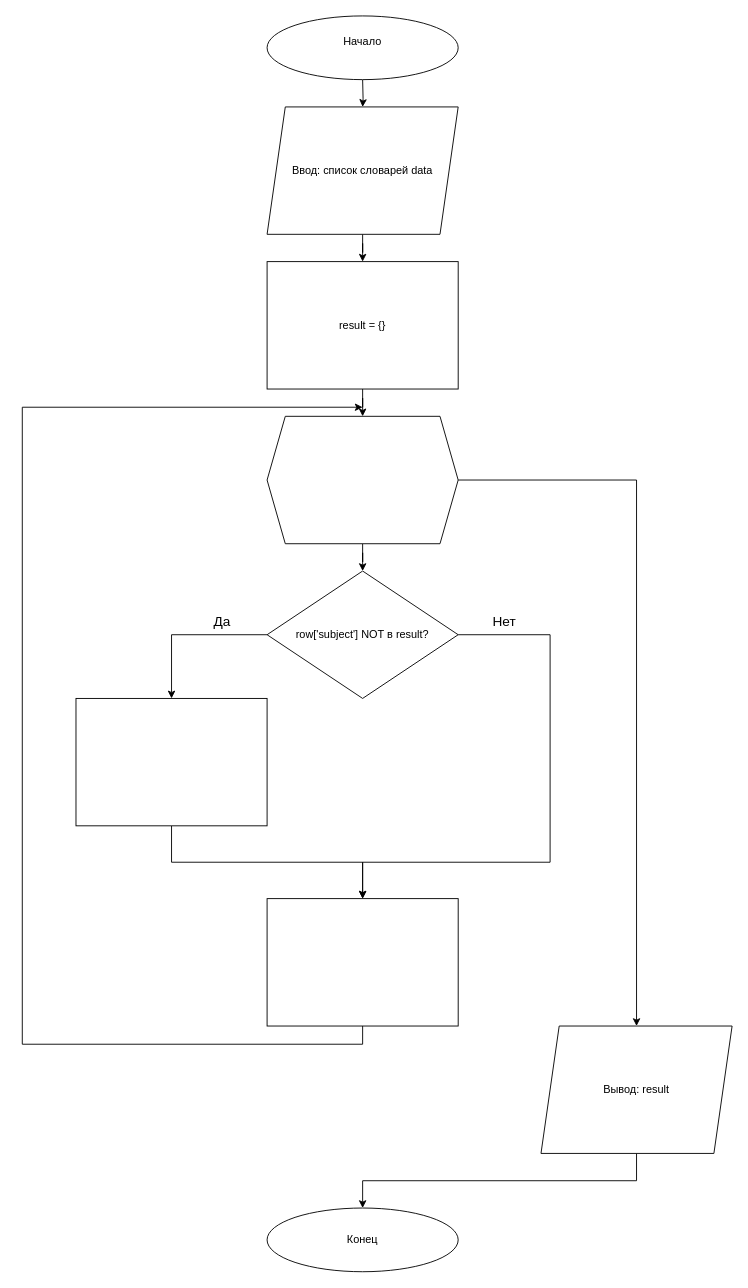
Some shapes in this 748 by 1288 pixel diagram are drawn without their labels. Here are the shapes that lost their labels. From the top down, the box of each, then its label:
(266, 415, 458, 544): Для каждой записи row в data
(75, 698, 267, 826): result[row['subject']] = {}
(266, 898, 458, 1026): result[row['subject']][row['student']] = row['grade']
